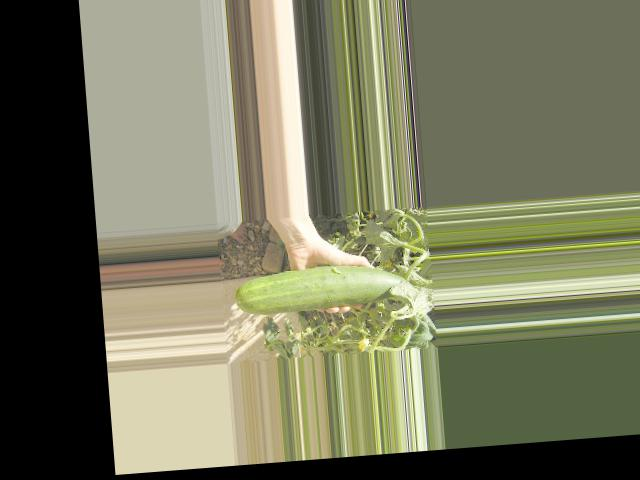cucumber: (232, 260, 410, 317)
